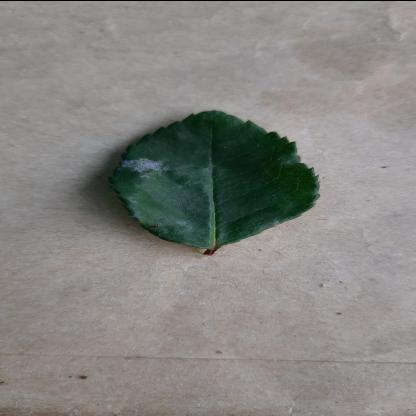powdery-mildew: (101, 107, 323, 255)
